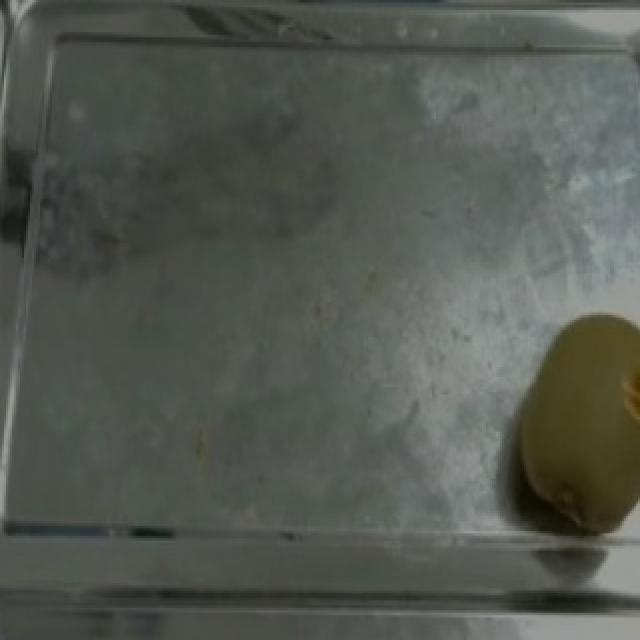Fruit: (502, 305, 640, 538)
